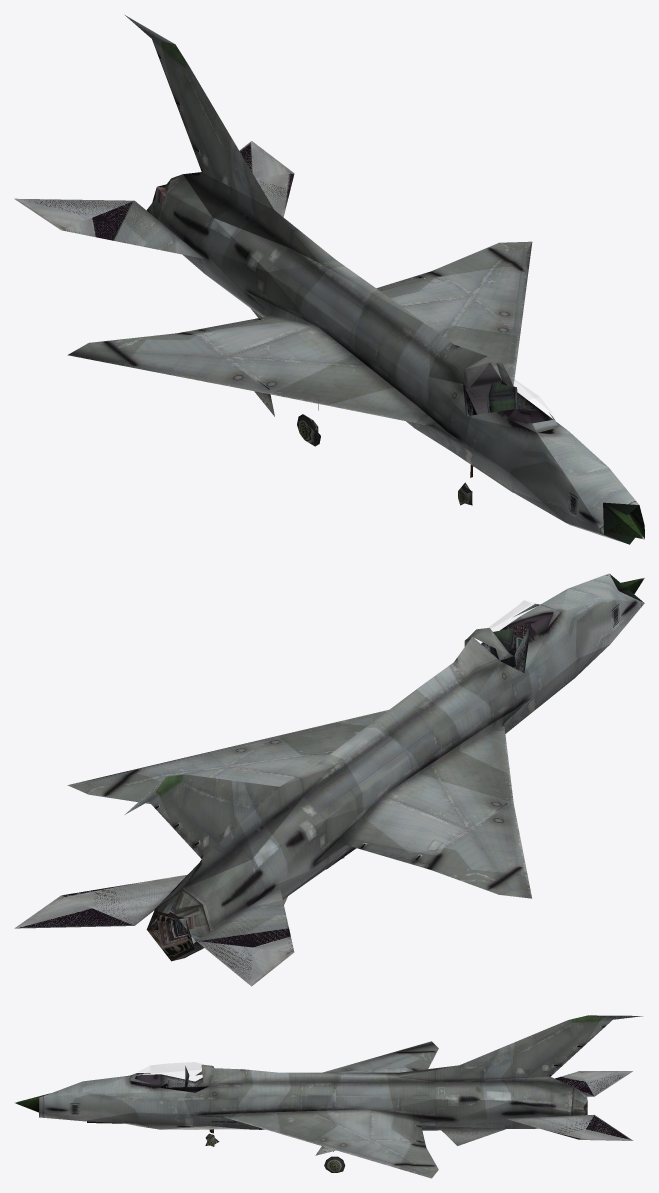
File: Mig21_lod1.FBX
The picture shows the model from 3 angles, top to bottom: view 1: azimuth 30°, elevation 25°; view 2: azimuth 150°, elevation 25°; view 3: azimuth 270°, elevation 25°; orthographic projection. The views are drawn at different scales.
Parts seen in each view (by area): view 1: LOD0, ElevatorR01, ElevatorL01, Canopy01, studio.a10.mesh_08, Eject_Seat; view 2: LOD0, ElevatorR01, ElevatorL01, EngineL01, Canopy01; view 3: LOD0, ElevatorL01, ElevatorR01, studio.a10.mesh_08, Glass_Canopy01, Canopy01.
Boxes of the visible parts, bbox=[...] form: LOD0: bbox=[67, 15, 644, 544]; ElevatorR01: bbox=[14, 198, 203, 258]; ElevatorL01: bbox=[239, 141, 294, 216]; Canopy01: bbox=[464, 357, 558, 432]; studio.a10.mesh_08: bbox=[297, 404, 473, 505]; Eject_Seat: bbox=[486, 382, 517, 412]; LOD0: bbox=[67, 573, 644, 960]; ElevatorR01: bbox=[196, 887, 294, 986]; ElevatorL01: bbox=[14, 874, 187, 928]; EngineL01: bbox=[147, 911, 195, 961]; Canopy01: bbox=[464, 603, 560, 660]; LOD0: bbox=[14, 1015, 642, 1178]; ElevatorL01: bbox=[504, 1114, 633, 1140]; ElevatorR01: bbox=[555, 1071, 632, 1096]; studio.a10.mesh_08: bbox=[205, 1129, 345, 1172]; Glass_Canopy01: bbox=[147, 1062, 201, 1072]; Canopy01: bbox=[129, 1064, 214, 1086].
Size of the model in its own units: 11.21 by 5.28 by 21.77.
Materials: 4 (3 with a texture image).
